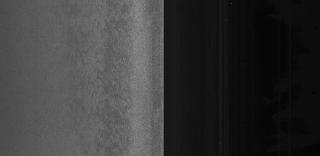silk spot: (94, 29, 132, 116)
